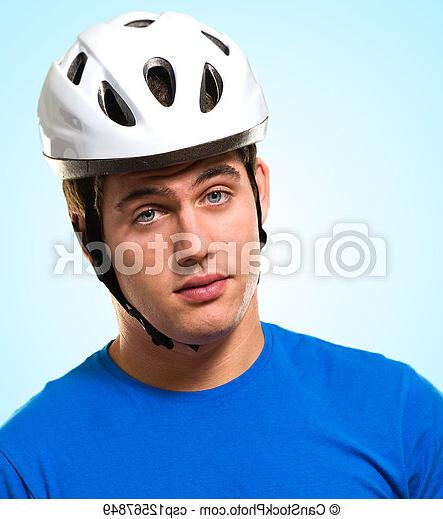Helmet: (37, 12, 268, 179)
